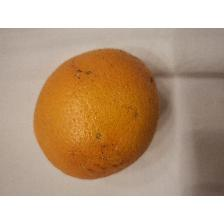Orange: (33, 46, 161, 182)
